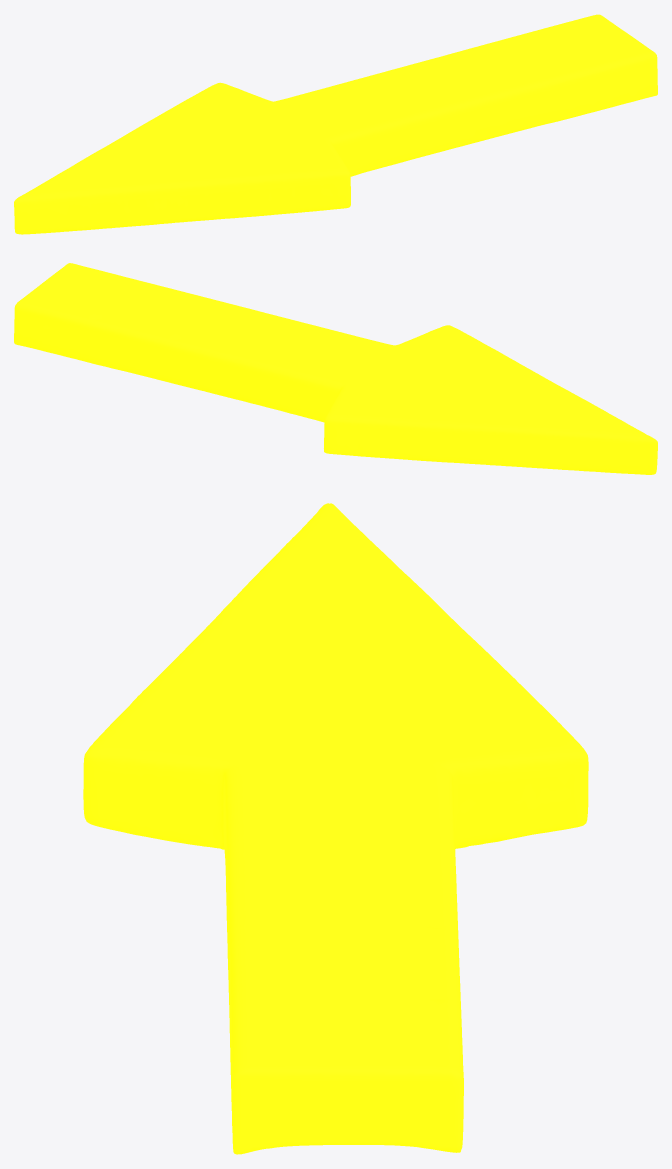
The picture shows the model from 3 angles, top to bottom: view 1: azimuth 30°, elevation 25°; view 2: azimuth 150°, elevation 25°; view 3: azimuth 270°, elevation 25°; orthographic projection. The views are drawn at different scales.
Visible parts, largest first — view 1: Mesh_0.001; view 2: Mesh_0.001; view 3: Mesh_0.001.
Boxes of the visible parts, box(x1,y1,x2,y2) form: Mesh_0.001: box(14, 14, 657, 234); Mesh_0.001: box(14, 263, 657, 474); Mesh_0.001: box(83, 503, 588, 1154).
Bounding box in the file's own units: 2 × 0.1561 × 0.7154.
